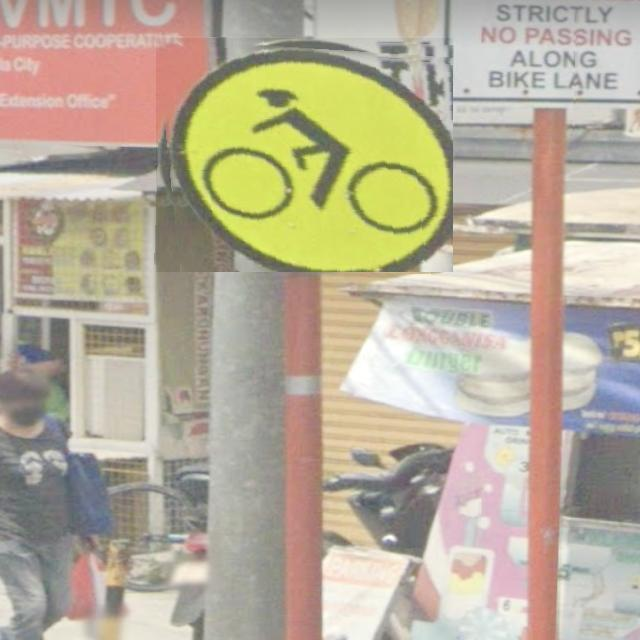bike lane: (156, 38, 453, 272)
